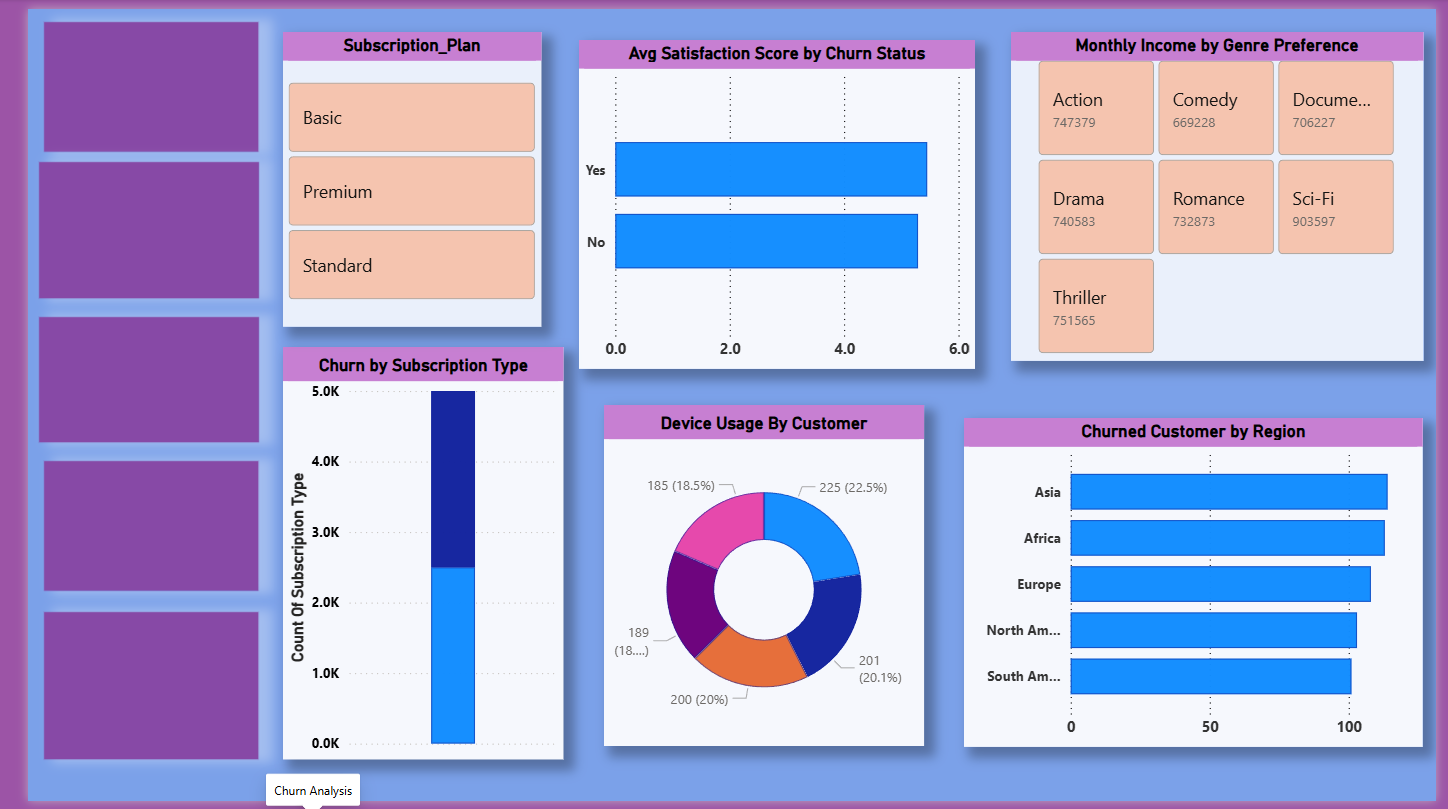

This screenshot's page, from the dashboard's own definition file:
{"tool":"powerbi","page":{"name":"Churn Analysis","canvas":[1280,720],"ordinal":1},"visuals":[{"type":"cardVisual","fields":{"Data":["netflix_db churn.Churn Rate"]},"box":[14.5,410.9,195.5,118.2],"z":0},{"type":"barChart","fields":{"Category":["netflix_db churn.Region"],"Y":["netflix_db churn.Churned Customer"]},"box":[850.9,371.8,417.3,299.1],"z":1000},{"type":"advancedSlicerVisual","title":"Monthly Income by Genre Preference","fields":{"Values":["netflix_db churn.Genre_Preference"],"Label":["Sum(netflix_db churn.Monthly_Income)"]},"box":[893.6,20.9,374.5,299.1],"z":2000},{"type":"columnChart","title":"Churn by Subscription Type","fields":{"Series":["netflix_db churn.Churn_Status"],"Y":["CountNonNull(netflix_db userbase.Subscription_Type)"]},"box":[231.8,307.3,255.5,374.5],"z":3000},{"type":"clusteredBarChart","title":"Avg Satisfaction Score by Churn Status","fields":{"Y":["netflix_db churn.Avg Satisfaction"],"Category":["netflix_db churn.Churn_Status"]},"box":[500.9,28.2,360,299.1],"z":4000},{"type":"cardVisual","fields":{"Data":["netflix_db churn.Total Customer"]},"box":[14.5,11.8,195.5,118.2],"z":5000},{"type":"cardVisual","fields":{"Data":["netflix_db churn.Retained Customer"]},"box":[10,280,200,113.6],"z":6000},{"type":"cardVisual","fields":{"Data":["netflix_db churn.Churned Customer"]},"box":[10,139.1,200,123.6],"z":7000},{"type":"cardVisual","fields":{"Data":["netflix_db churn.Avg Watch Time"]},"box":[14.5,548.2,195.5,133.6],"z":8000},{"type":"pieChart","title":"Device Usage By Customer","fields":{"Category":["netflix_db churn.Device_Used_Most_Often"],"Y":["netflix_db churn.Total Customer"]},"box":[523.6,360,290.9,310],"z":9000},{"type":"advancedSlicerVisual","fields":{"Values":["netflix_db churn.Subscription_Plan"]},"box":[231.8,20.9,234.5,268.2],"z":10000}]}

Visuals, with their boxes in screenshot pixels (x1, y1, x2, y2), scaled from the page's 1280x720 canvas onto the 1448x809 screenshot:
cardVisual - netflix_db churn.Churn Rate: [x1=16, y1=462, x2=238, y2=595]
barChart - netflix_db churn.Region x netflix_db churn.Churned Customer: [x1=963, y1=418, x2=1435, y2=754]
"Monthly Income by Genre Preference" advancedSlicerVisual: [x1=1011, y1=23, x2=1435, y2=360]
"Churn by Subscription Type" columnChart: [x1=262, y1=345, x2=551, y2=766]
"Avg Satisfaction Score by Churn Status" clusteredBarChart: [x1=567, y1=32, x2=974, y2=368]
cardVisual - netflix_db churn.Total Customer: [x1=16, y1=13, x2=238, y2=146]
cardVisual - netflix_db churn.Retained Customer: [x1=11, y1=315, x2=238, y2=442]
cardVisual - netflix_db churn.Churned Customer: [x1=11, y1=156, x2=238, y2=295]
cardVisual - netflix_db churn.Avg Watch Time: [x1=16, y1=616, x2=238, y2=766]
"Device Usage By Customer" pieChart: [x1=592, y1=404, x2=921, y2=753]
advancedSlicerVisual - netflix_db churn.Subscription_Plan: [x1=262, y1=23, x2=528, y2=325]
